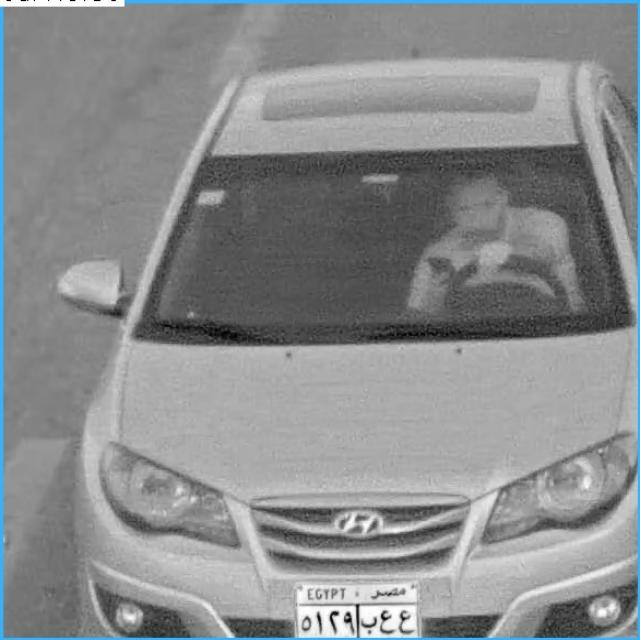windshield: (154, 157, 623, 320)
